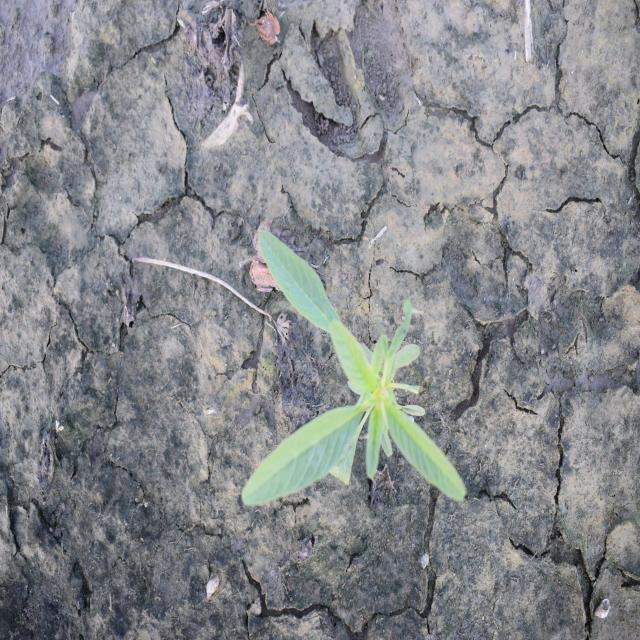Waterhemp: (239, 228, 469, 510)
